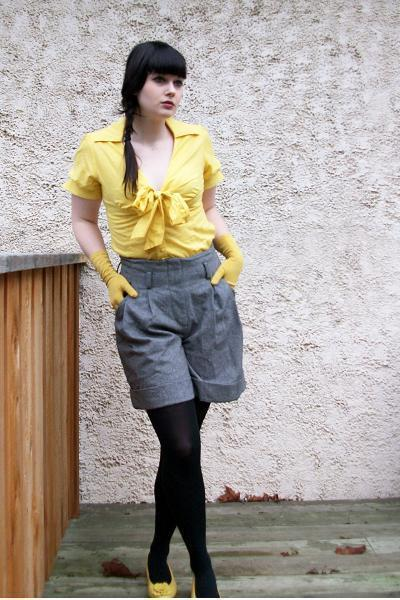jacket: (69, 116, 219, 259)
shoe: (195, 572, 219, 597)
shorts: (112, 238, 251, 411)
